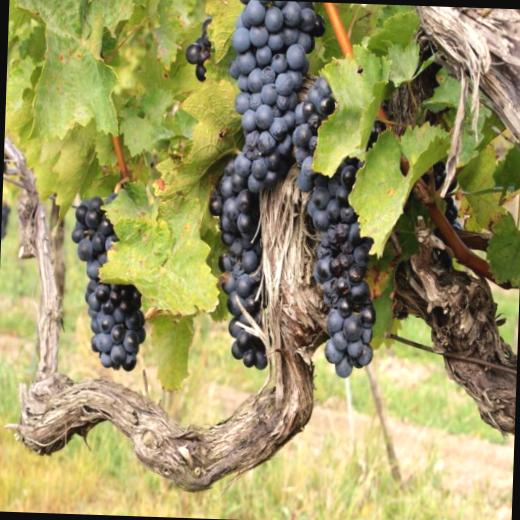Orange: (200, 0, 386, 380), (205, 0, 388, 379), (66, 191, 150, 372), (66, 192, 150, 369), (432, 162, 468, 229), (432, 160, 464, 230), (183, 16, 212, 80), (185, 17, 212, 81), (438, 249, 452, 269)
